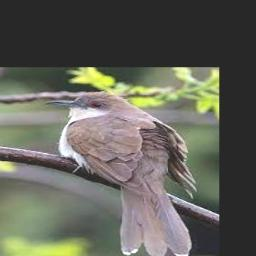Cuckoo: (46, 91, 198, 256)
